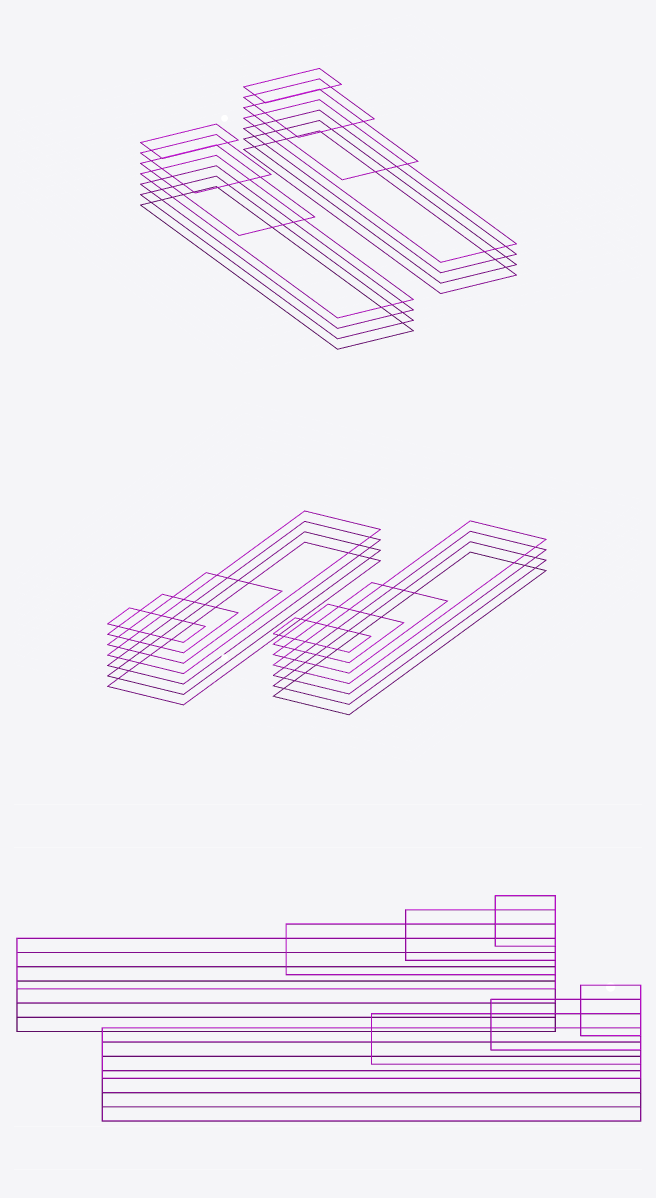
The model's file is kouyaku03.glb.
3 renders of one model, top to bottom at view 1: azimuth 30°, elevation 25°; view 2: azimuth 150°, elevation 25°; view 3: azimuth 270°, elevation 25°, orthographic. The views are drawn at different scales.
Visible parts, largest first — view 1: スイープ.3 (×2), スイープ.4 (×2), スイープ.5 (×2), スイープ.6 (×2), スイープ.2 (×2); view 2: スイープ.3 (×2), スイープ.5 (×2), スイープ.4 (×2), スイープ.6 (×2), スイープ.2 (×2); view 3: スイープ.3 (×2), スイープ.5 (×2), スイープ.6 (×2), スイープ.4 (×2), スイープ.2 (×2), スイープ.8 (×2), スイープ 1, スイープ 4, スイープ 5, スイープ 8.
Boxes of the visible parts, <box> form: スイープ.3 (×2): <box>140,99,516,318</box>; スイープ.4 (×2): <box>140,109,516,328</box>; スイープ.5 (×2): <box>140,120,516,339</box>; スイープ.6 (×2): <box>140,130,516,349</box>; スイープ.2 (×2): <box>140,88,418,235</box>; スイープ.3 (×2): <box>107,510,546,683</box>; スイープ.5 (×2): <box>107,531,546,704</box>; スイープ.4 (×2): <box>107,521,546,694</box>; スイープ.6 (×2): <box>107,541,546,714</box>; スイープ.2 (×2): <box>107,572,447,673</box>; スイープ.3 (×2): <box>16,937,641,1078</box>; スイープ.5 (×2): <box>16,966,641,1107</box>; スイープ.6 (×2): <box>16,980,641,1121</box>; スイープ.4 (×2): <box>16,952,641,1093</box>; スイープ.2 (×2): <box>285,923,641,1064</box>; スイープ.8 (×2): <box>405,909,641,1050</box>; スイープ 1: <box>14,1169,641,1169</box>; スイープ 4: <box>14,1126,641,1126</box>; スイープ 5: <box>14,847,641,847</box>; スイープ 8: <box>14,804,641,804</box>.
Bounding box in the file's own units: 0.02 × 0.0045 × 0.02.
